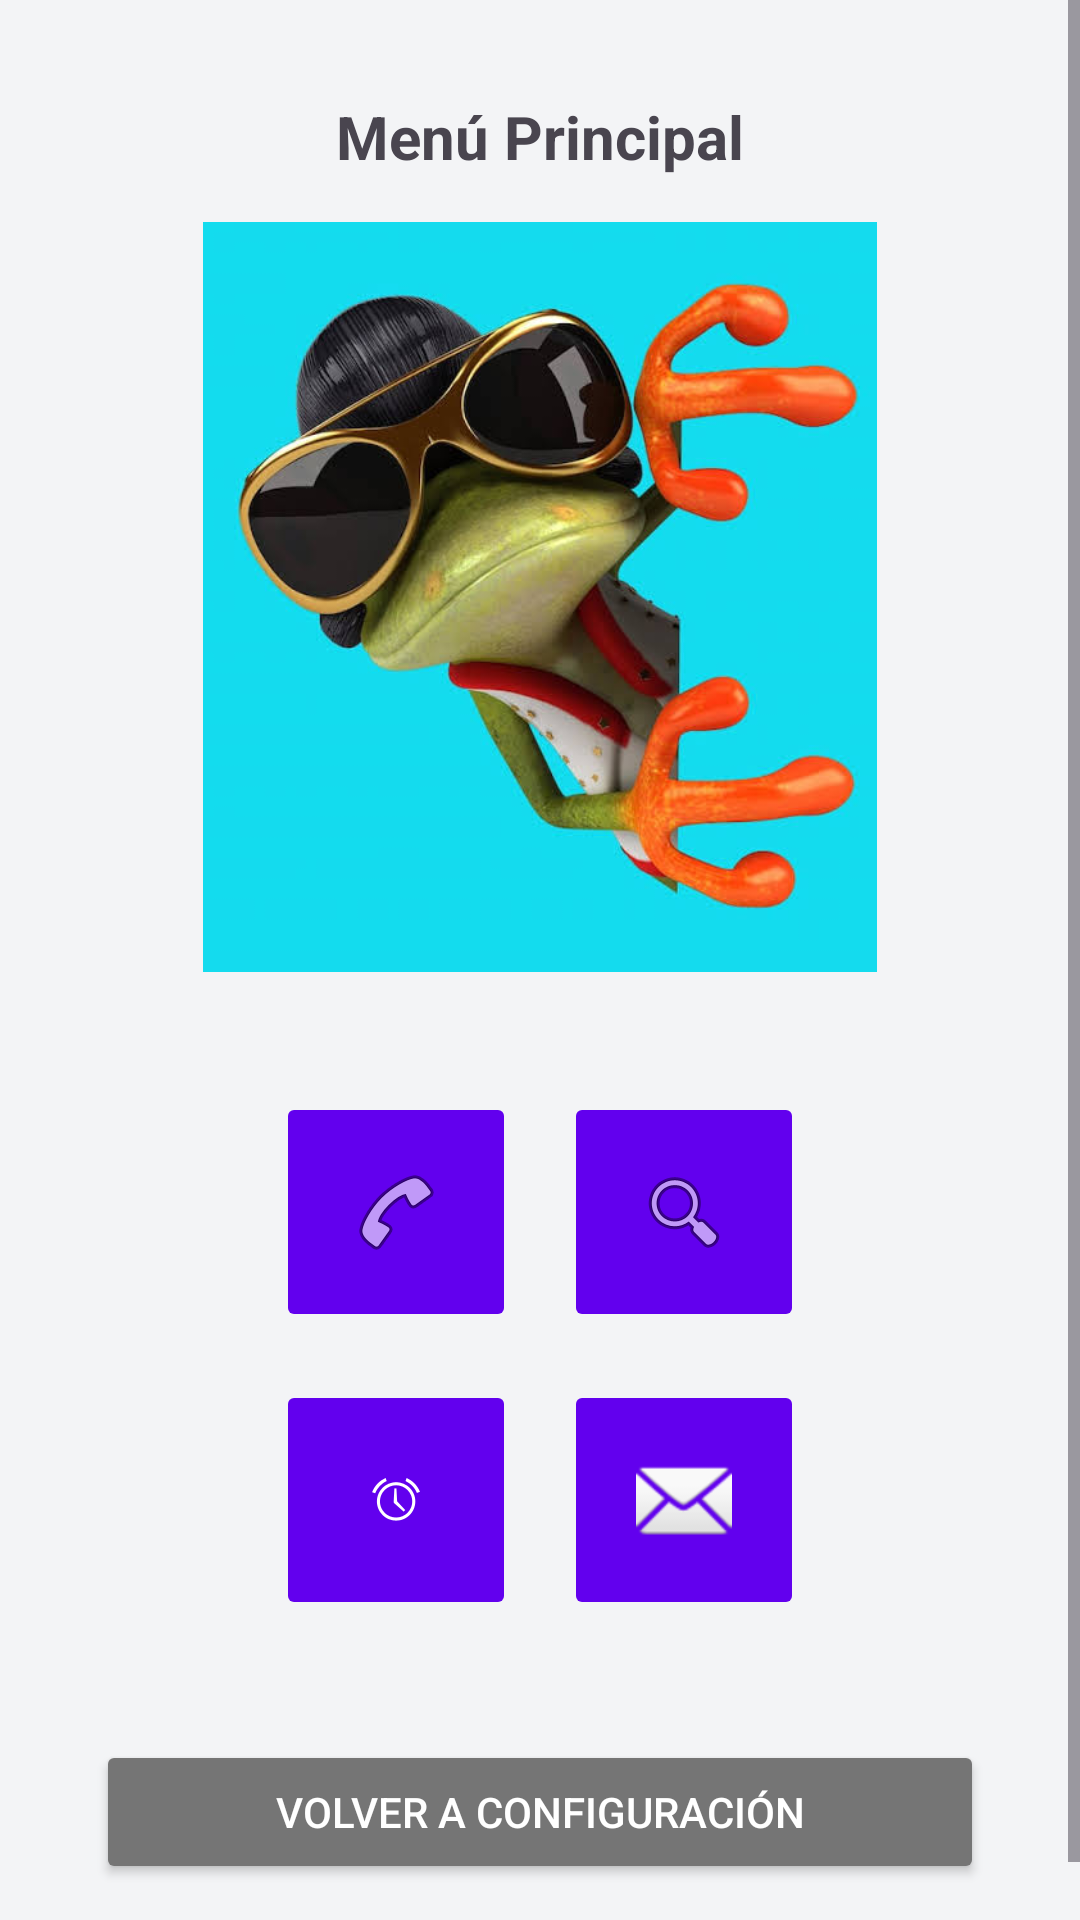

Named icons in this screenshot (1080w x 1920h) and their centers, point (x, y):
call: point (396, 1212)
email: point (684, 1500)
lock idle alarm: point (396, 1500)
search: point (684, 1212)
